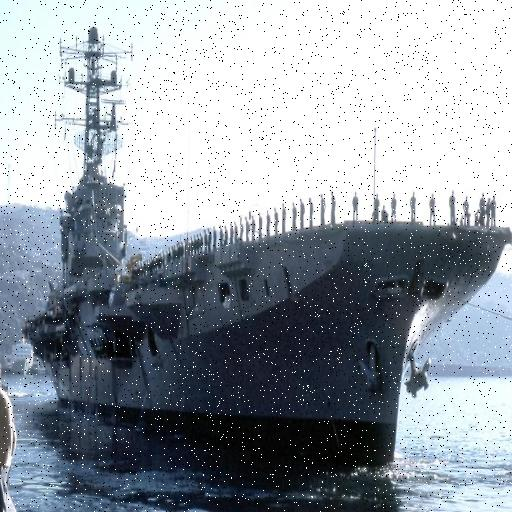Portanaves: (19, 16, 512, 474)
